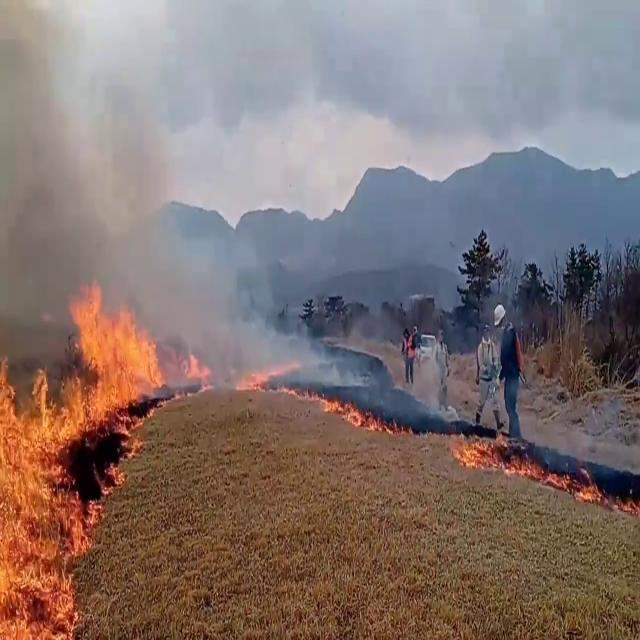Fire: (1, 350, 92, 630), (60, 278, 169, 402), (446, 426, 542, 476), (182, 343, 214, 391)
Smoke: (0, 1, 200, 347), (230, 300, 404, 398)
